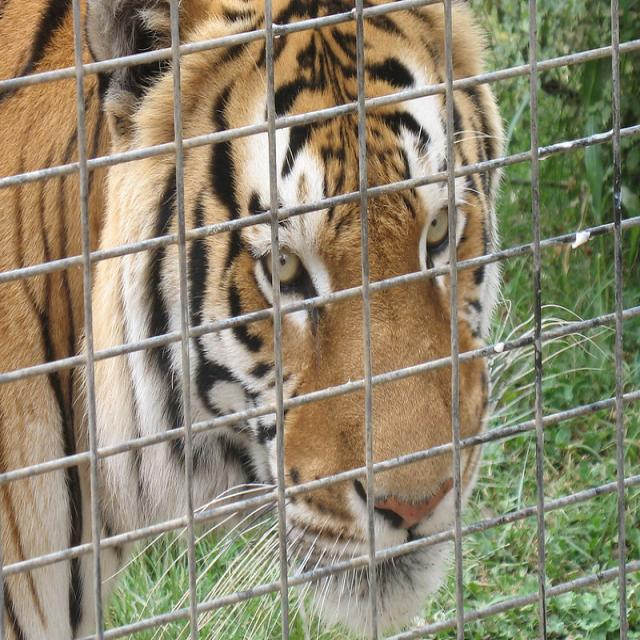Tiger: (0, 0, 506, 638)
